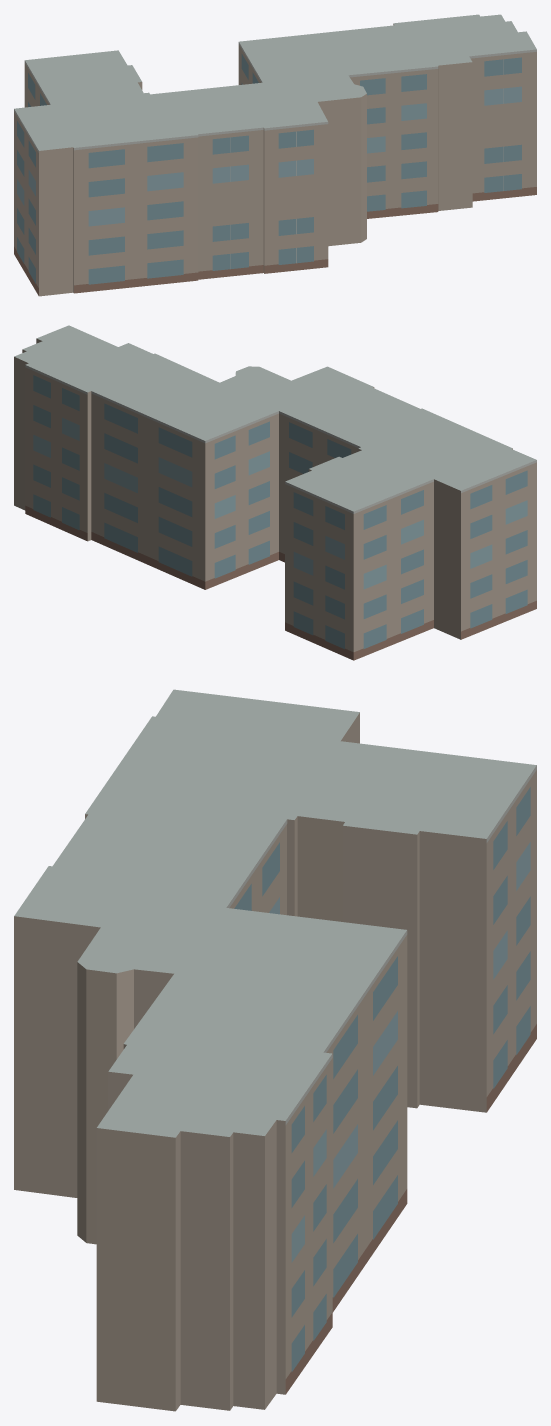
The model's file is survey-upis-32626049.glb.
3 views of the same model, one above another, from view 1: azimuth 30°, elevation 25°; view 2: azimuth 150°, elevation 25°; view 3: azimuth 270°, elevation 25° (orthographic). The views are drawn at different scales.
Parts seen in each view (by area): view 1: survey-upis-32626049.tmp; view 2: survey-upis-32626049.tmp; view 3: survey-upis-32626049.tmp.
Boxes of the visible parts, x1,y1,x2,y2 form: survey-upis-32626049.tmp: [14, 14, 536, 296]; survey-upis-32626049.tmp: [14, 325, 536, 660]; survey-upis-32626049.tmp: [14, 689, 536, 1411].
Bounding box in the file's own units: 53.56 × 15.25 × 26.41.
